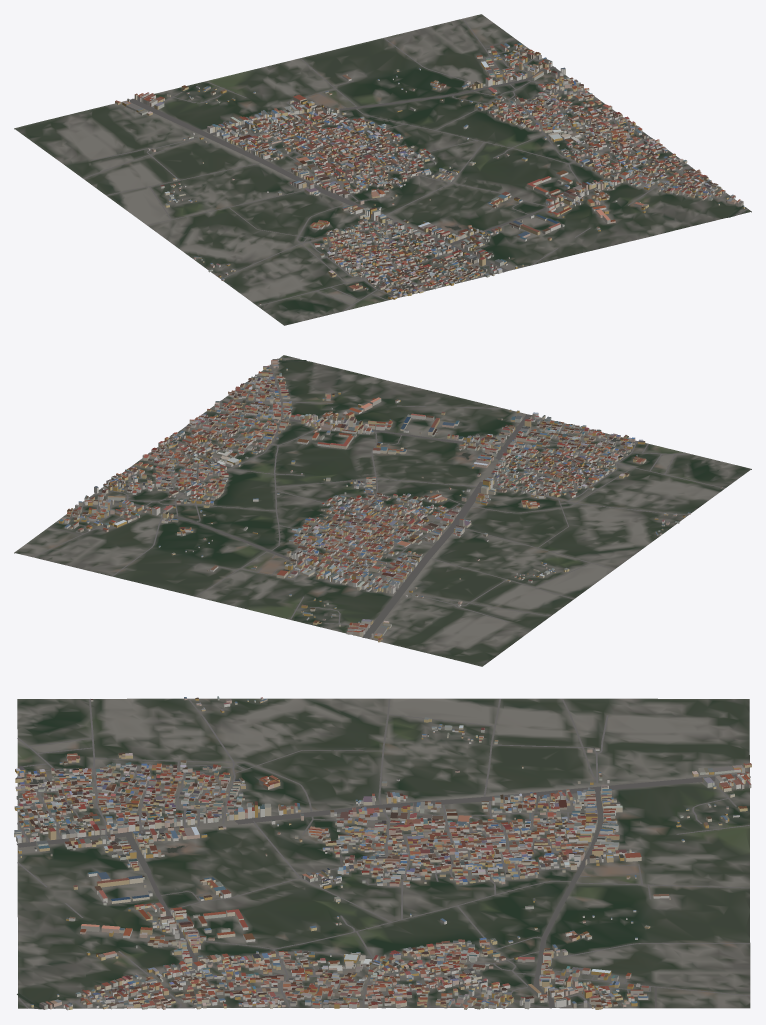
3 renders of one model, top to bottom at view 1: azimuth 30°, elevation 25°; view 2: azimuth 150°, elevation 25°; view 3: azimuth 270°, elevation 25°, orthographic. The views are drawn at different scales.
Parts seen in each view (by area): view 1: ground, buildings, roads; view 2: ground, buildings, roads; view 3: ground, buildings, roads.
Part boxes in pixels (x1,y1,x2,y2): ground: (14, 14, 751, 325); buildings: (115, 43, 744, 304); roads: (83, 18, 747, 311); ground: (14, 355, 751, 666); buildings: (59, 357, 722, 642); roads: (32, 357, 725, 638); ground: (17, 698, 750, 1009); buildings: (14, 696, 751, 1010); roads: (17, 698, 750, 1008).
Bounding box in the file's own units: 1413 × 31.55 × 1413.
